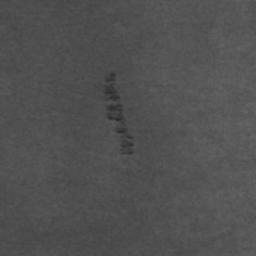Secondary rust skin: (103, 72, 133, 155)
